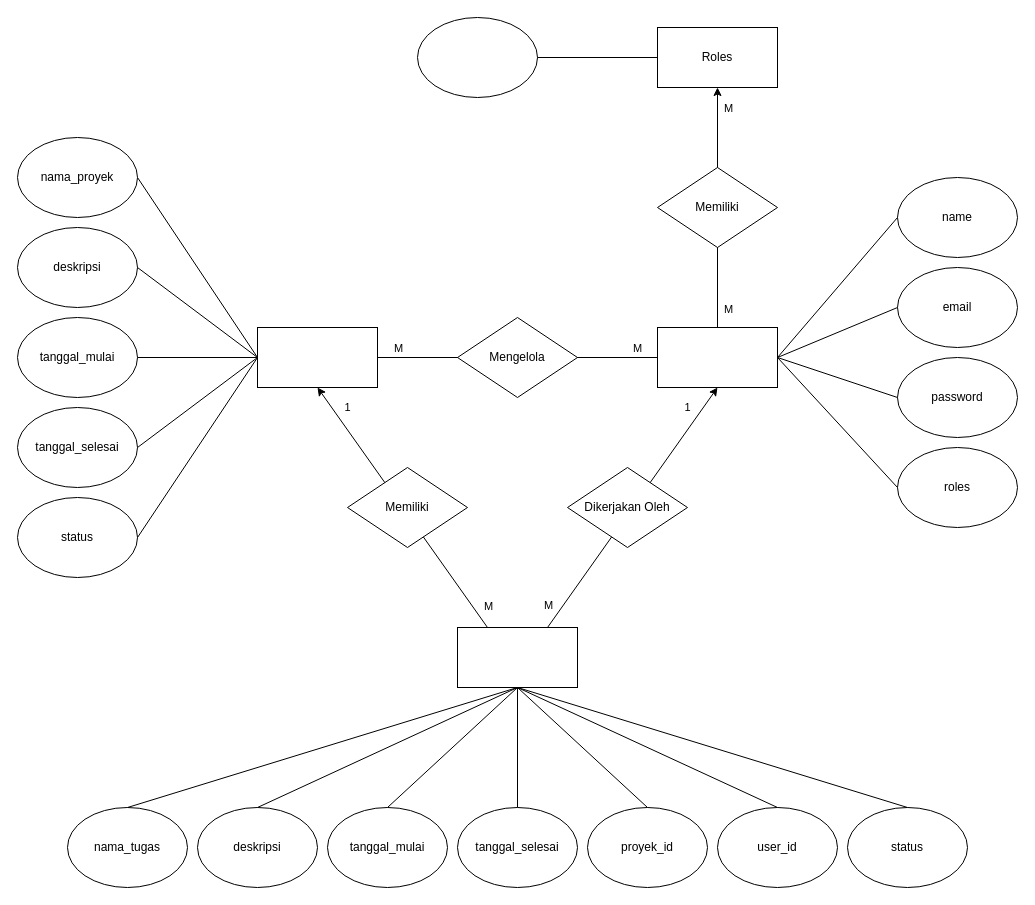
Some shapes in this 1035 by 905 pixel diagram are drawn without their labels. Each missing label, with the box of its shape:
nama_role: (416, 16, 538, 98)
Proyek: (256, 326, 378, 388)
Tugas: (456, 626, 578, 688)
User: (656, 326, 778, 388)
